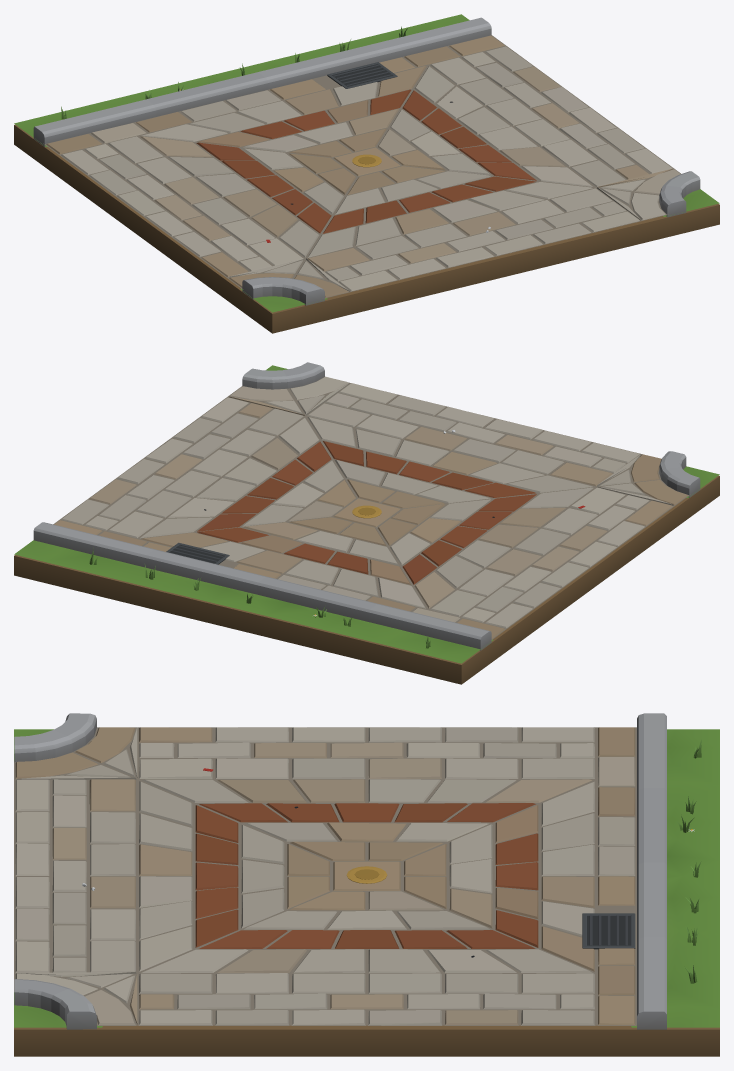
The model's file is road-midway-t.glb.
The picture shows the model from 3 angles, top to bottom: view 1: azimuth 30°, elevation 25°; view 2: azimuth 150°, elevation 25°; view 3: azimuth 270°, elevation 25°; orthographic projection. The views are drawn at different scales.
Parts seen in each view (by area): view 1: road_midway_t; view 2: road_midway_t; view 3: road_midway_t.
Boxes of the visible parts, x1,y1,x2,y2 form: road_midway_t: (14, 14, 719, 333); road_midway_t: (14, 362, 719, 684); road_midway_t: (14, 713, 719, 1056).
Bounding box in the file's own units: 4 × 0.2932 × 4.
